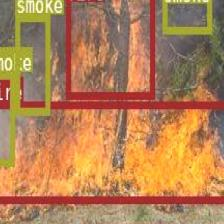fire: (0, 100, 224, 201), (65, 0, 153, 97)
smoke: (15, 13, 48, 113), (162, 0, 210, 32), (0, 72, 14, 164)
